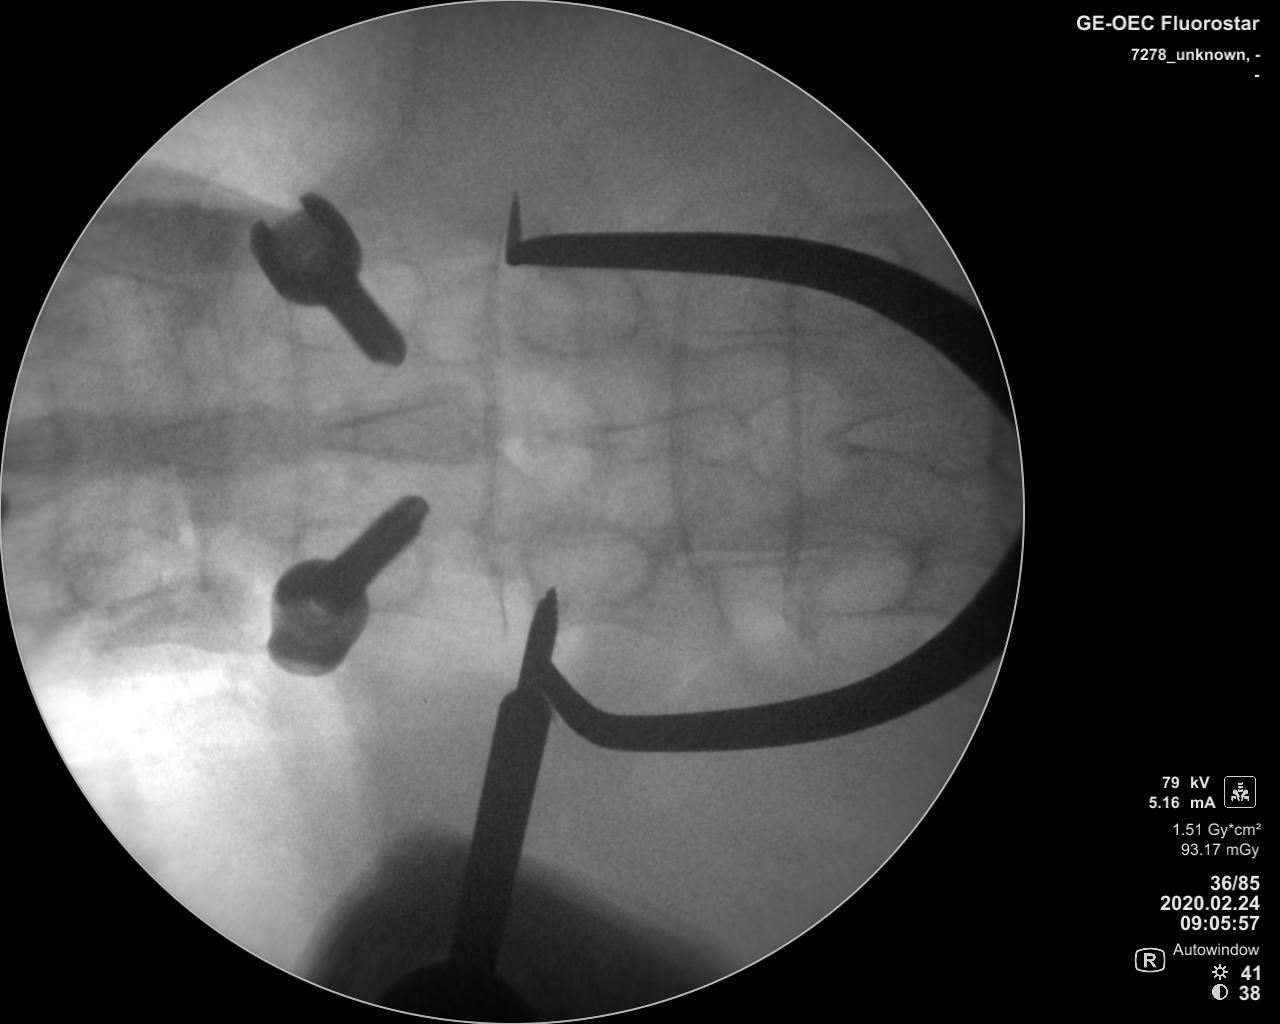eyes: (294, 512, 432, 609), (285, 259, 429, 349), (790, 523, 916, 620), (512, 267, 647, 354), (525, 523, 656, 610)
line: (665, 272, 732, 633), (480, 236, 514, 647), (773, 283, 813, 620), (273, 301, 315, 560)
nose: (550, 400, 760, 471), (834, 395, 998, 482), (138, 403, 313, 479), (310, 394, 483, 468), (5, 412, 125, 481)
